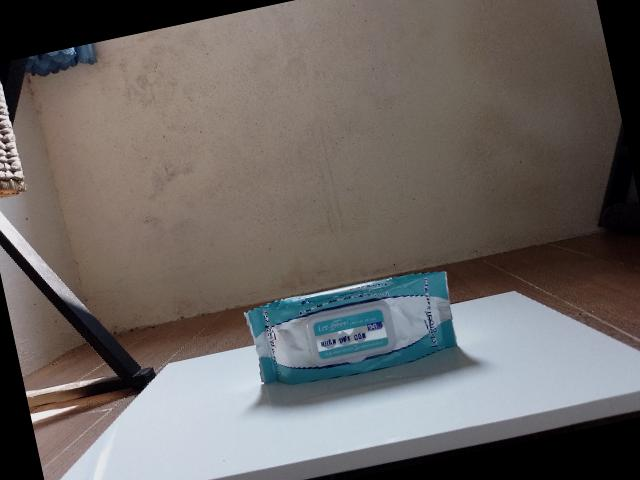Let-green_alcohol_wipes: (243, 270, 457, 386)
